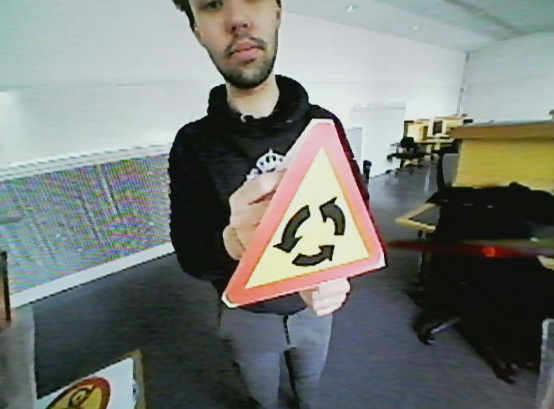roundabout_warning: (223, 116, 390, 308)
